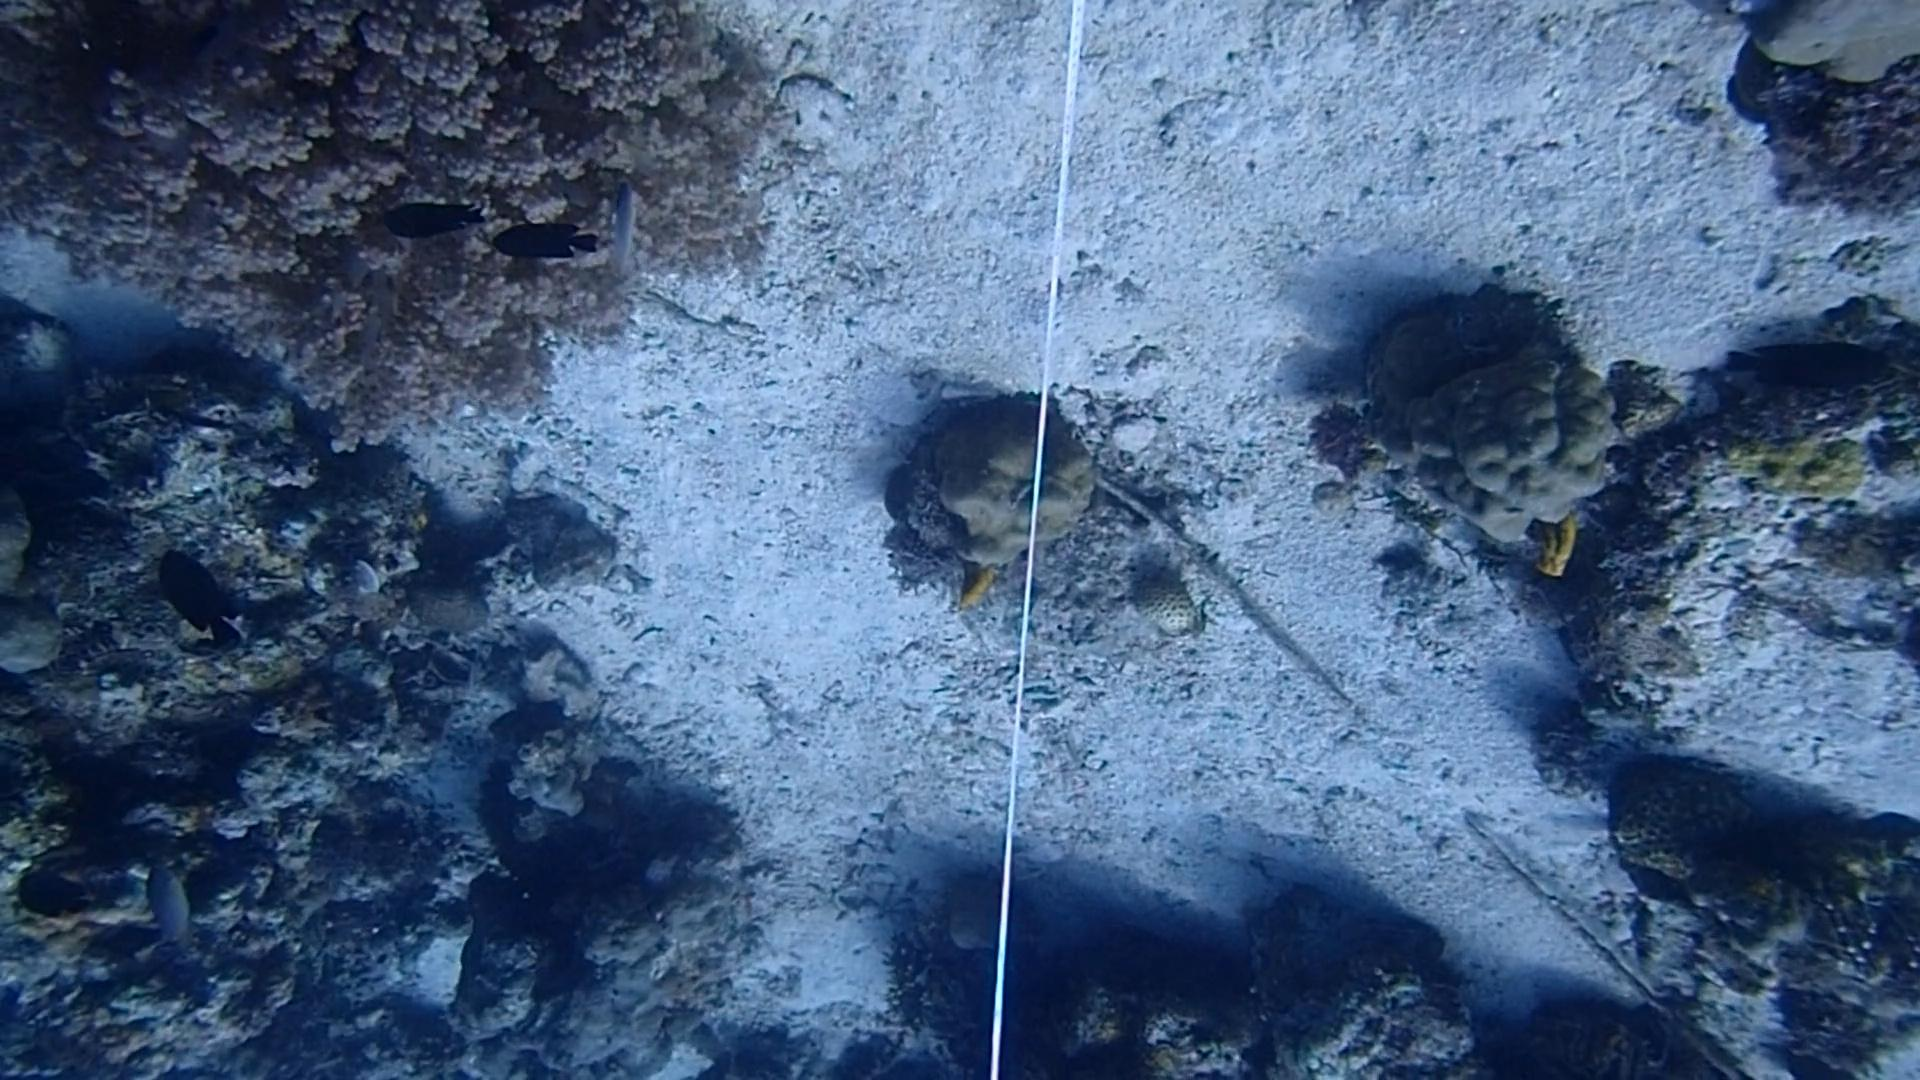Dark Fish: (1716, 331, 1895, 405), (145, 550, 249, 659), (481, 208, 605, 276), (376, 189, 483, 244), (5, 869, 92, 920)
Light Fish: (137, 860, 200, 971), (604, 174, 647, 289)
